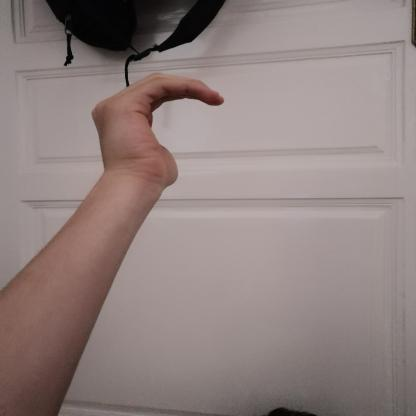HAA: (79, 63, 236, 196)
